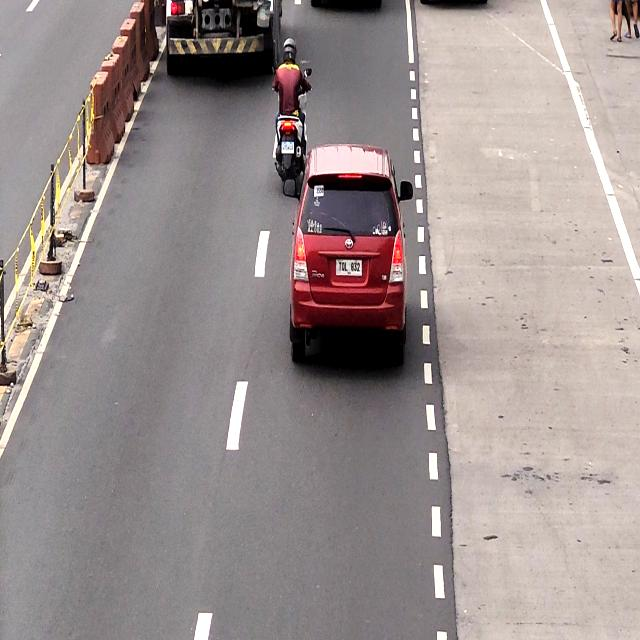Car: (290, 147, 404, 360)
License-Plate: (337, 257, 362, 281), (279, 141, 294, 155)
Motorcycle: (270, 36, 306, 192)
